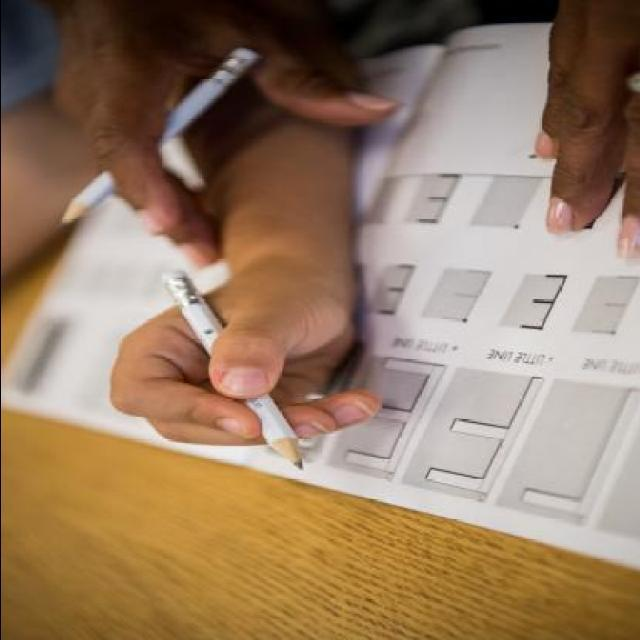Pencil: (254, 424, 320, 476)
